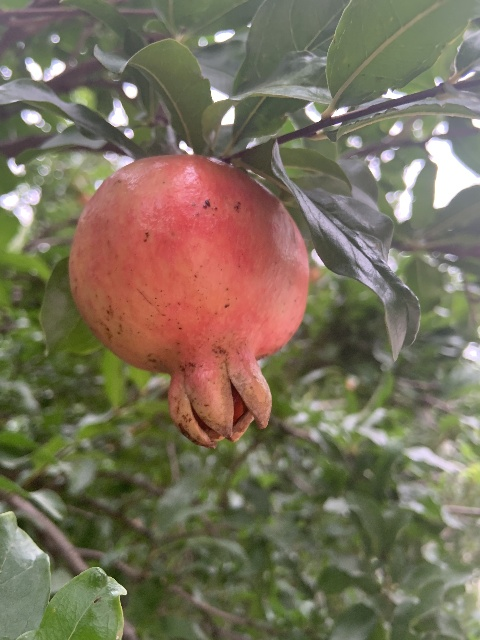ripe: (70, 156, 308, 448)
